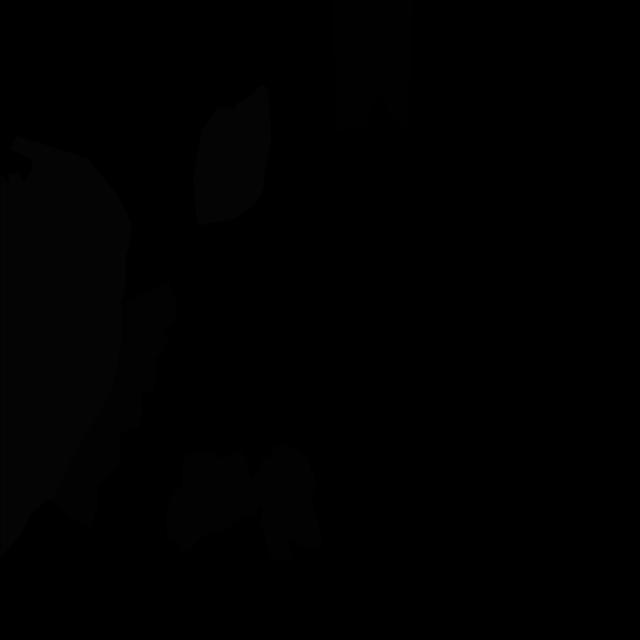cardboard: (52, 281, 176, 527), (166, 444, 322, 561)
rigid_plastic: (333, 0, 413, 133)
soft_plastic: (0, 135, 132, 558), (193, 85, 271, 225)
